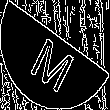M_NE: (28, 21, 82, 89)
